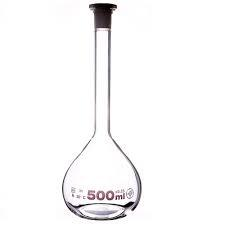Volumetric flask: (41, 6, 165, 217)
